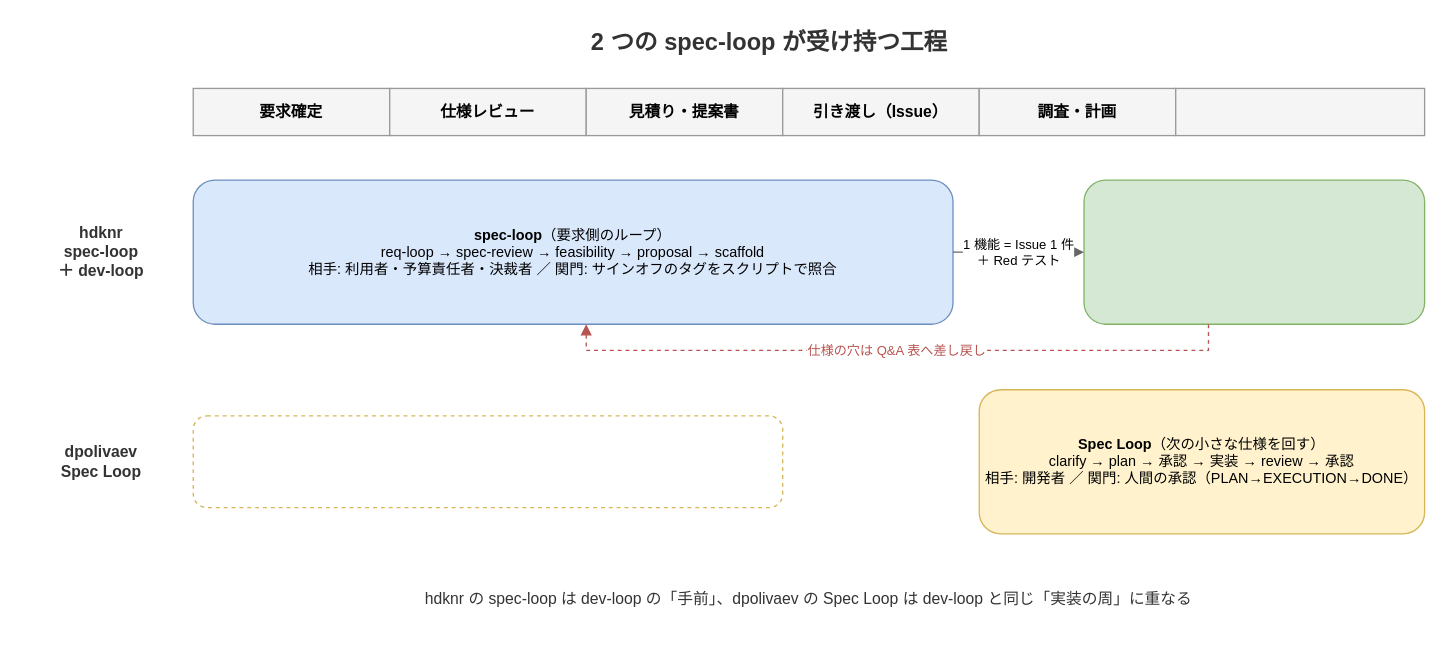
Image size: 1448x647. Some labels were removed from this diagram. The centre of each missing label's shape, as x and y in pixels:
dev-loop Issue 1 件を verify が通るまで 1 周: (x=1254, y=251)
実装・検証・レビュー: (x=1299, y=111)
広い問題領域の分析は守備範囲外（自己評価 ★★）: (x=487, y=461)
